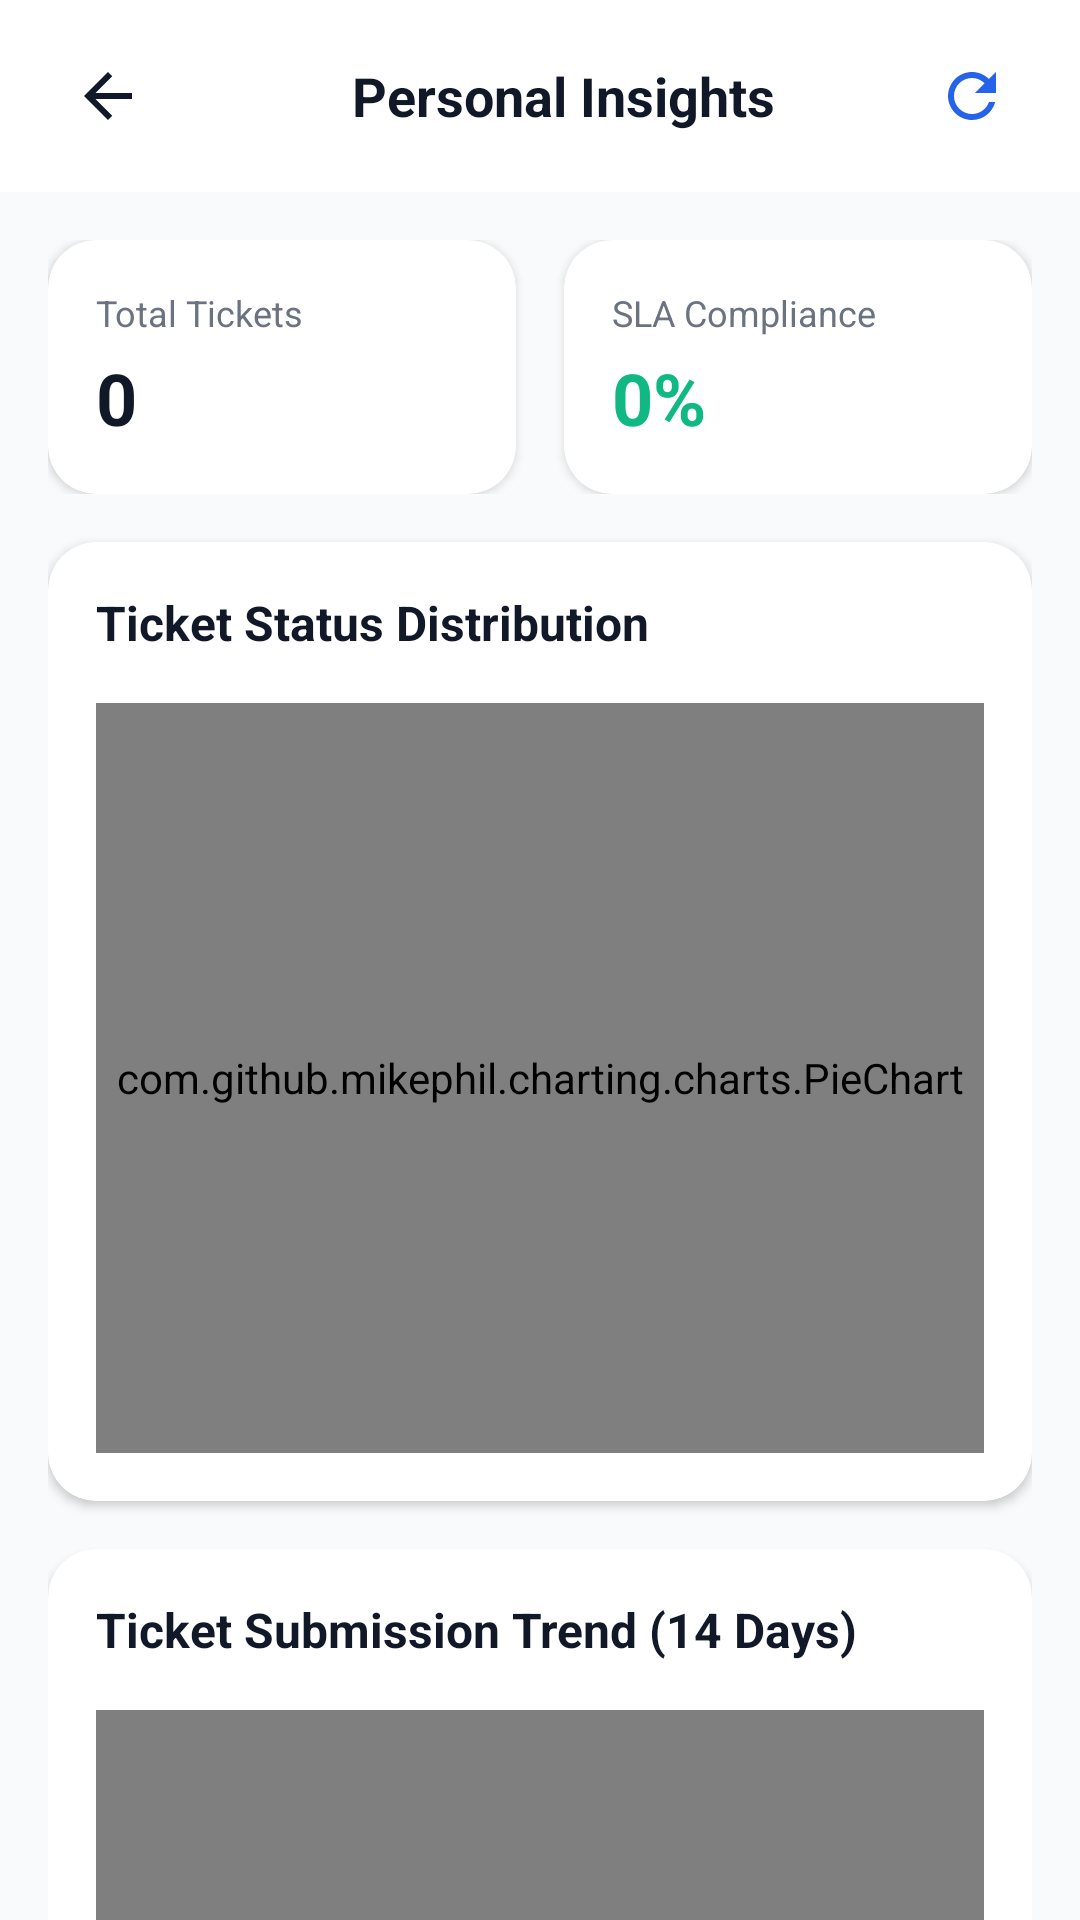

Locate icon controls on the screen. Image size 1080x1920, boxes as (x1=x1, y1=y1, x2=x2, y2=y2).
arrow back: (x1=84, y1=72, x2=132, y2=120)
refresh: (x1=948, y1=72, x2=996, y2=120)
